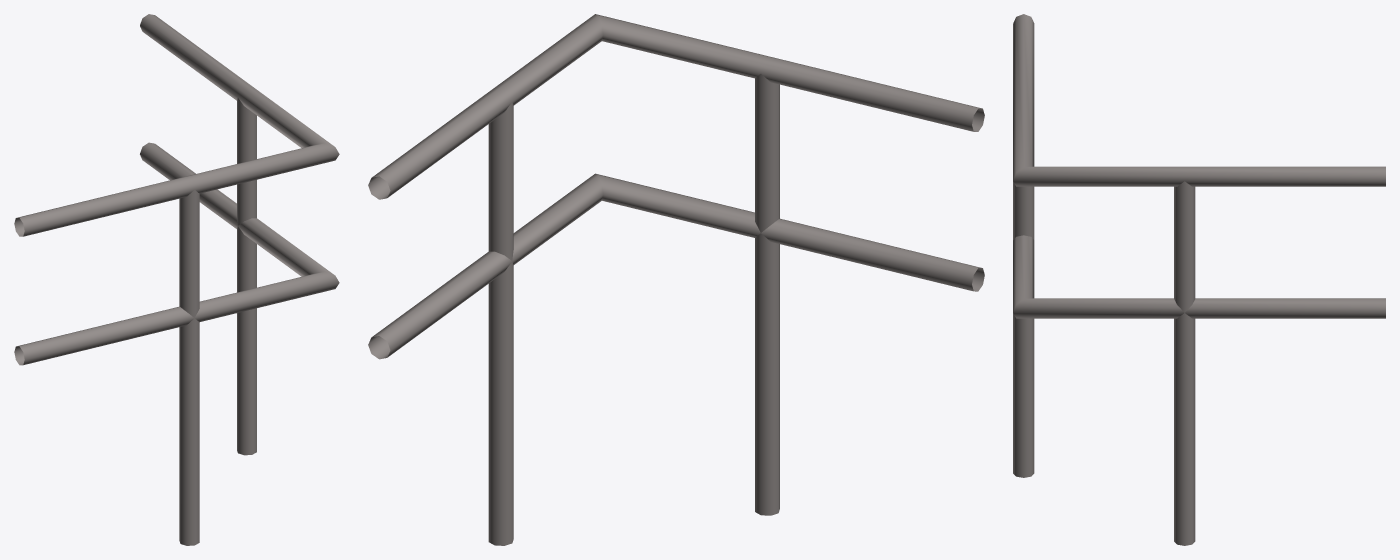
Rendered from SM_Railing_Angle_02.fbx.
3 renders of one model, left to right at view 1: azimuth 30°, elevation 25°; view 2: azimuth 150°, elevation 25°; view 3: azimuth 270°, elevation 25°, orthographic. The views are drawn at different scales.
Visible parts, largest first — view 1: SM_Railing_Angle_02; view 2: SM_Railing_Angle_02; view 3: SM_Railing_Angle_02.
Boxes of the visible parts, <box> form: SM_Railing_Angle_02: <box>14,14,339,545</box>; SM_Railing_Angle_02: <box>368,14,984,545</box>; SM_Railing_Angle_02: <box>1013,14,1385,545</box>.
Bounding box in the file's own units: 92.66 × 103 × 92.66.
